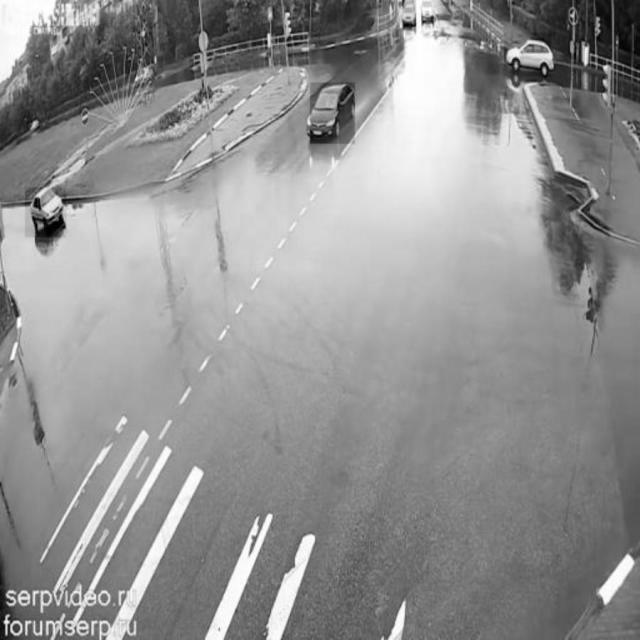vehicle: (311, 83, 356, 144), (504, 32, 551, 76), (25, 188, 66, 238), (402, 0, 417, 30)
